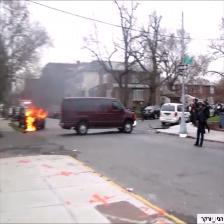fire: (25, 107, 45, 132)
